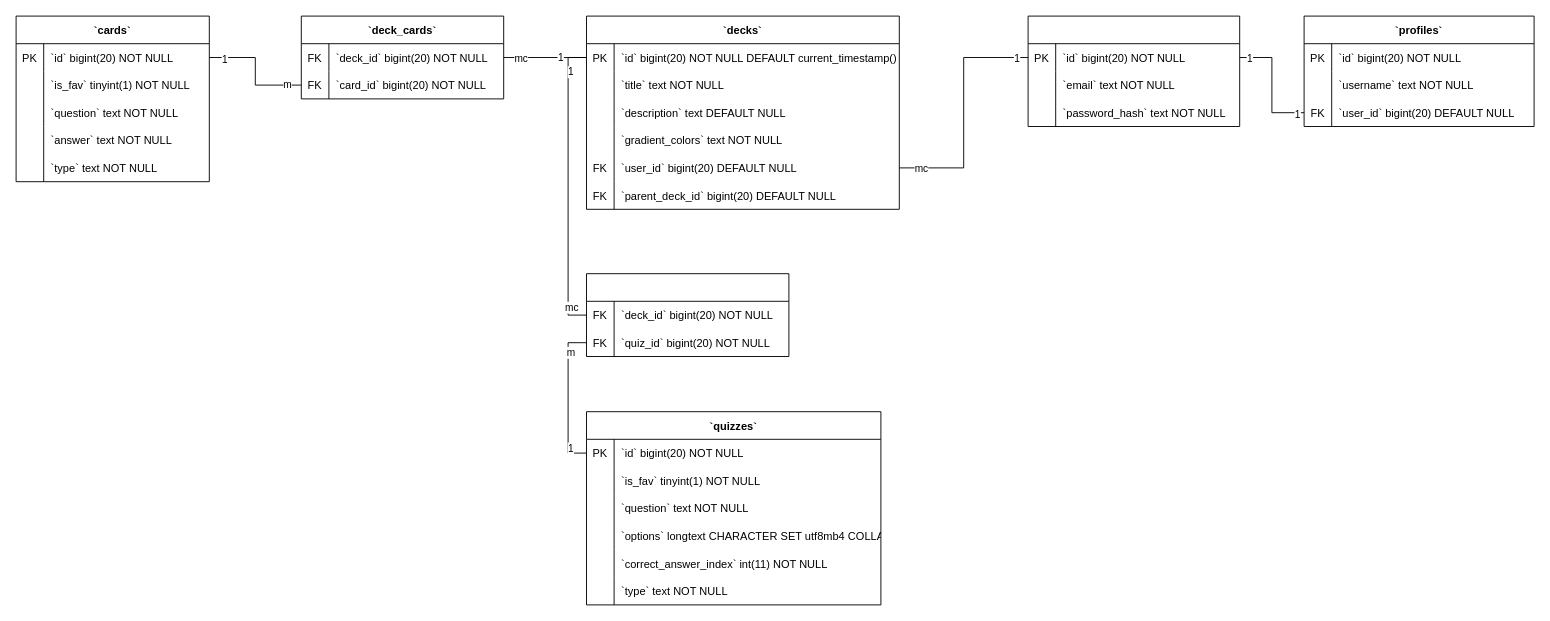
Some shapes in this 1550 by 621 pixel diagram are drawn without their labels. The shapes that lost their labels are listed below. From the top down, each one's box as (x1, y1, x2, y2) in pixels, then its label:
(1027, 15, 1240, 126): `users`
(586, 273, 789, 356): `deck_quizzes`
